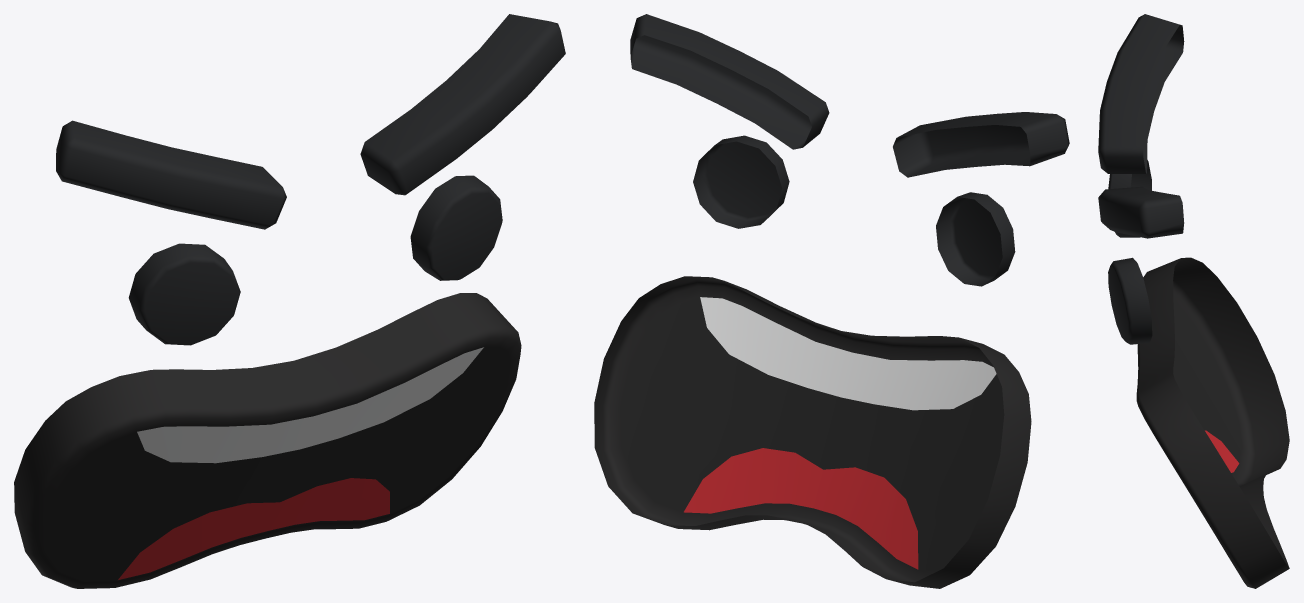
Rendered from Female_Emotion_Shout_01.glb.
3 views of the same model, side by side, from view 1: azimuth 30°, elevation 25°; view 2: azimuth 150°, elevation 25°; view 3: azimuth 270°, elevation 25° (orthographic). The views are drawn at different scales.
Visible parts, largest first — view 1: Female_Emotion_Shout_01; view 2: Female_Emotion_Shout_01; view 3: Female_Emotion_Shout_01.
Part boxes in pixels (x1=…): Female_Emotion_Shout_01: x1=14, y1=14, x2=565, y2=588; Female_Emotion_Shout_01: x1=594, y1=14, x2=1069, y2=588; Female_Emotion_Shout_01: x1=1098, y1=14, x2=1289, y2=588.
Size of the model in its own units: 0.2376 by 0.2342 by 0.0968.
Materials: 1 (1 with a texture image).
